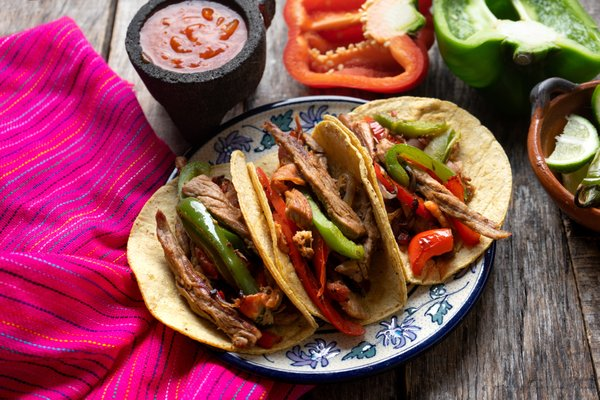soup: (325, 95, 513, 284), (282, 0, 430, 93)
sushi: (526, 73, 600, 234)
